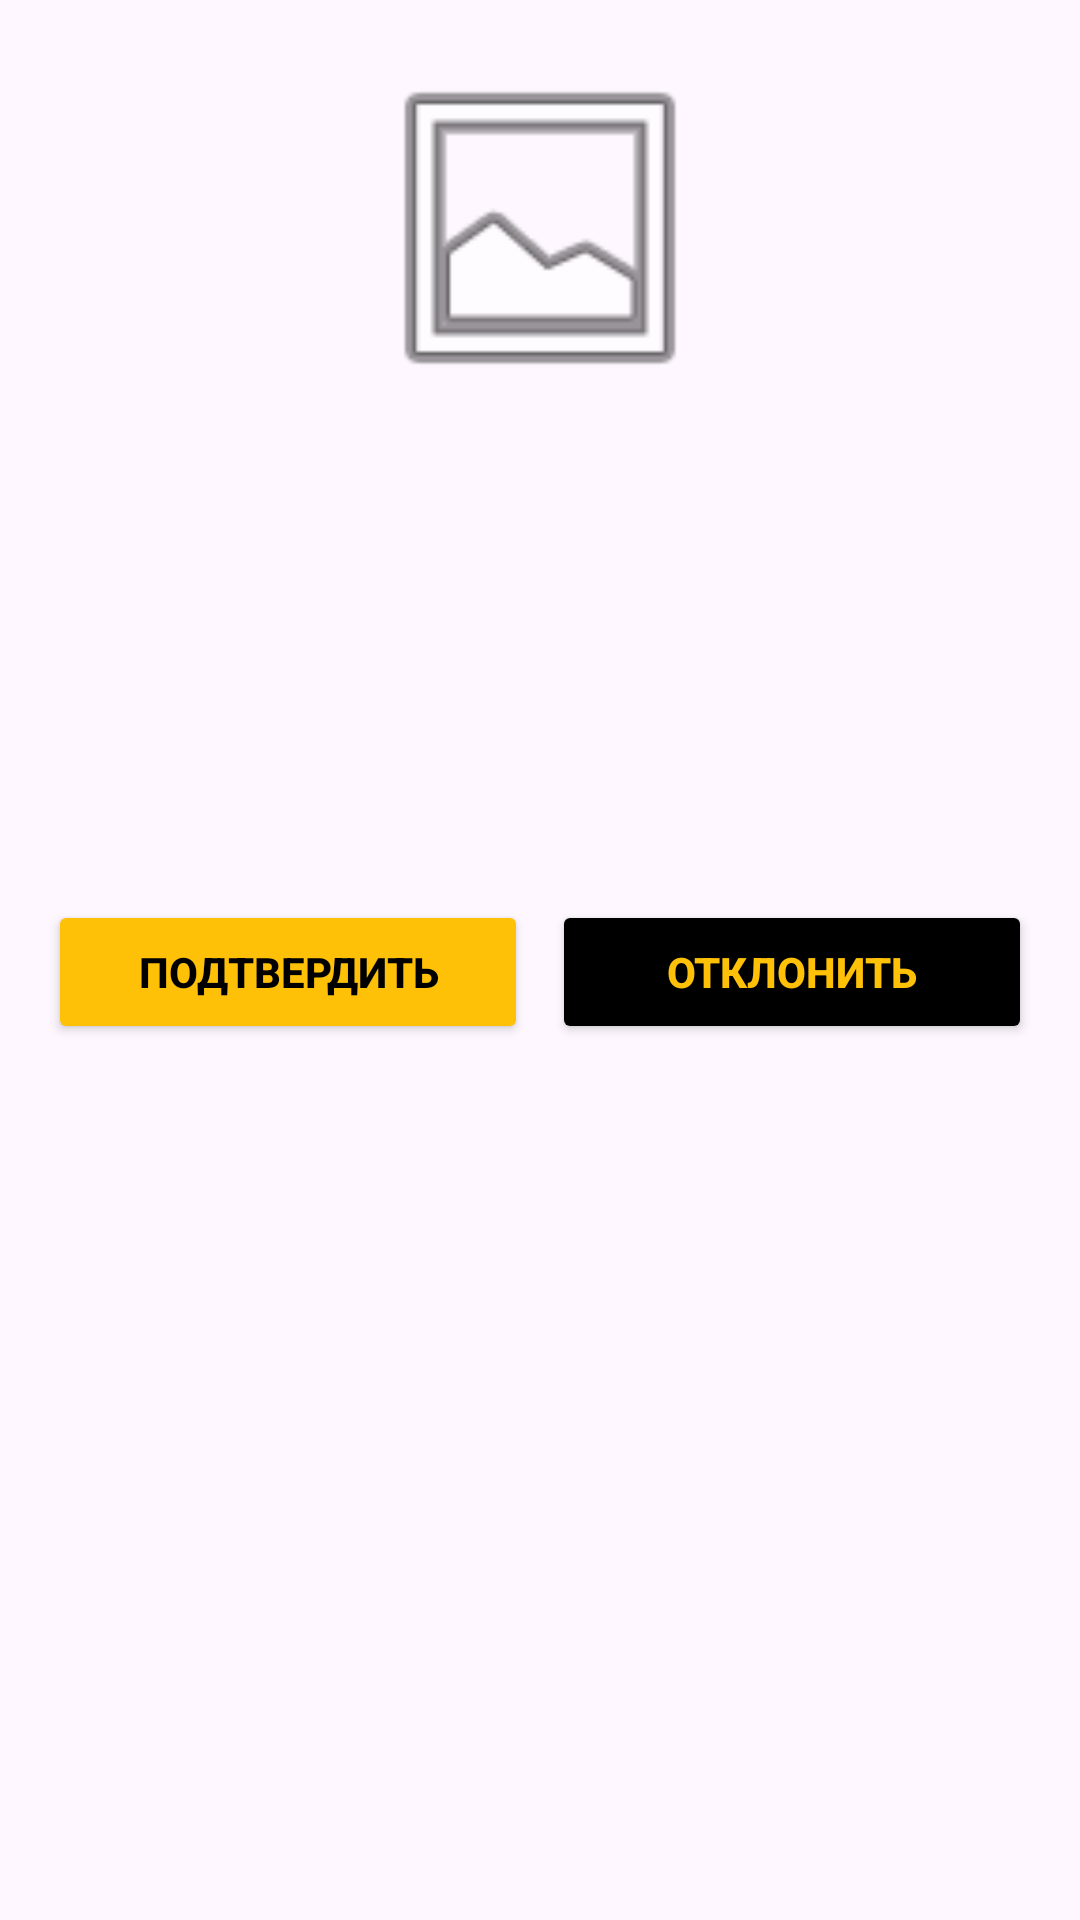

Screen size 1080 x 1920. Icon name, then its center in pixels as point (x, y):
gallery: point (540, 228)
